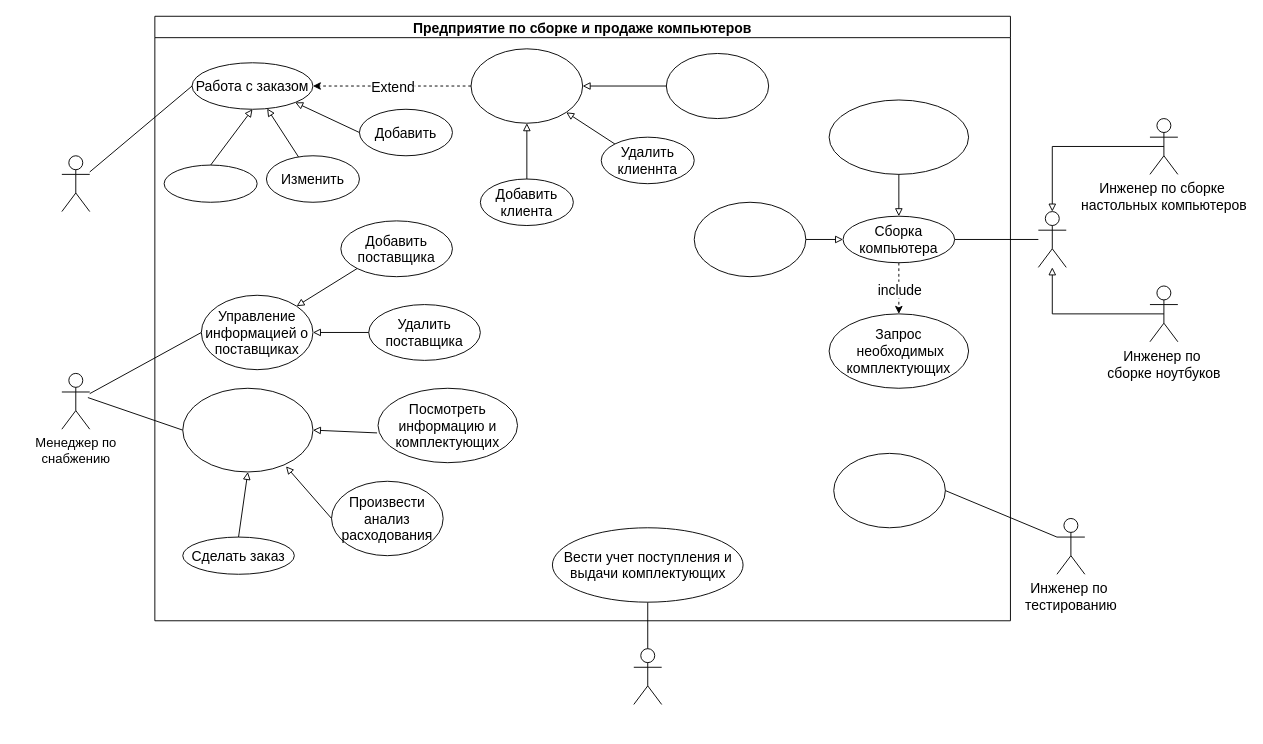
Some shapes in this 1263 by 744 pixel diagram are drawn without their labels. Each missing label, with the centre of its shape:
"Завскладом" goes at point (647, 676).
"Инженер по сборке" goes at point (1051, 239).
"Менеджер по работе с клиентами" goes at point (75, 183).
"Отметить ход выполнения работ" goes at point (749, 239).
"Посмотреть информацию о клиенте" goes at point (717, 86).
"Посмотреть наряды на сборку компьютера" goes at point (898, 136).
"Тестирование компьютеров" goes at point (889, 490).
"Удалить" goes at point (210, 183).
"Управление информацией о клиенте" goes at point (526, 85).
"Управление информацией о комплектующих" goes at point (247, 429).
